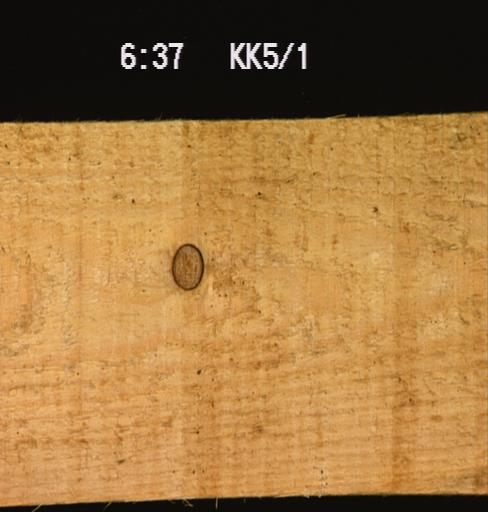dry_knot: (169, 242, 205, 291)
